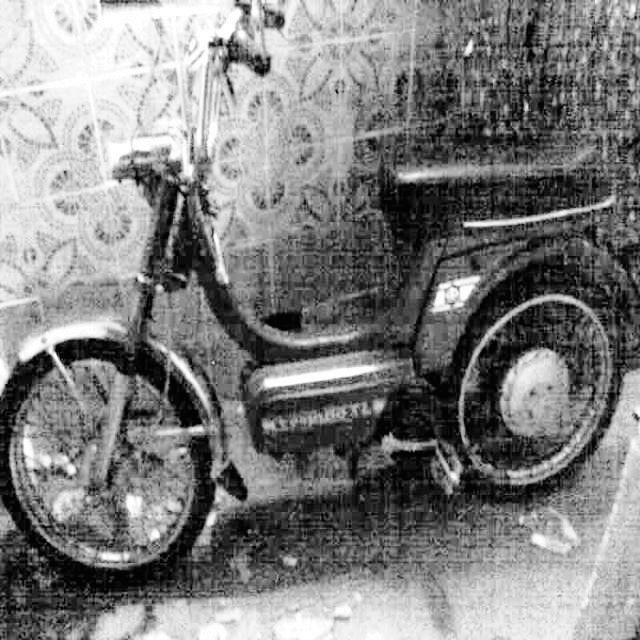Motorcycle: (1, 0, 635, 558)
